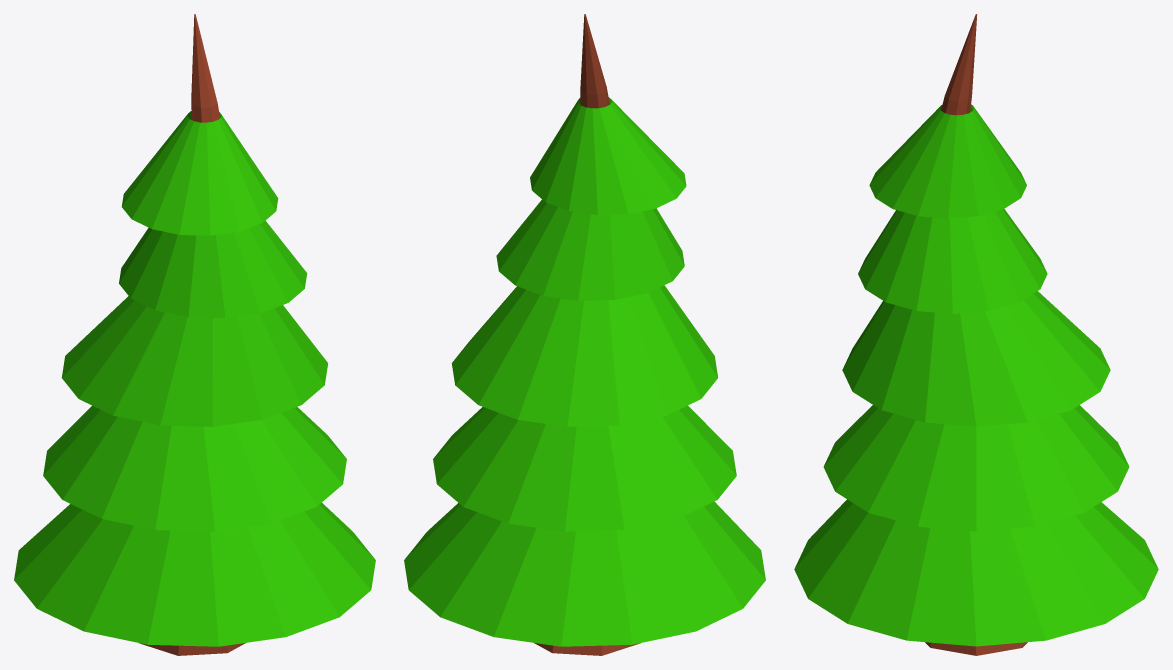
Rendered from Tree3.fbx.
3 renders of one model, left to right at view 1: azimuth 30°, elevation 25°; view 2: azimuth 150°, elevation 25°; view 3: azimuth 270°, elevation 25°, orthographic.
Visible parts, largest first — view 1: Tree; view 2: Tree; view 3: Tree.
Part boxes in pixels (<box>): Tree: <box>14,14,375,655</box>; Tree: <box>404,14,765,655</box>; Tree: <box>794,14,1158,655</box>.
Size of the model in its own units: 250 by 464 by 250.
